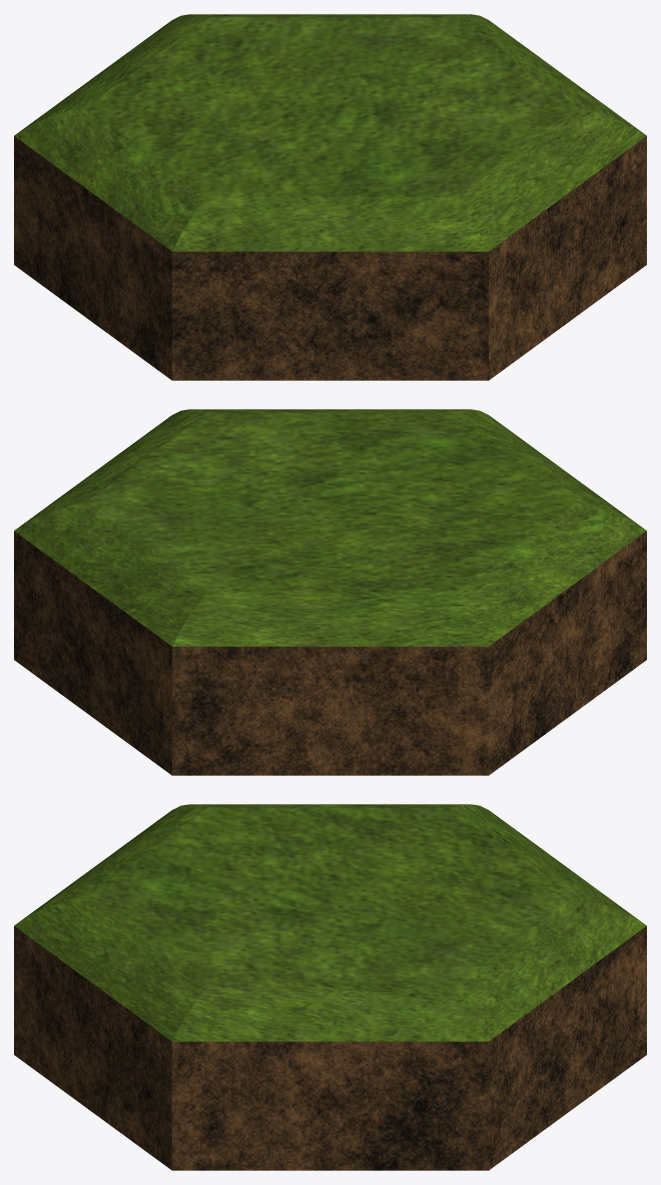
Rendered from DAEgrass.dae.
3 renders of one model, top to bottom at view 1: azimuth 30°, elevation 25°; view 2: azimuth 150°, elevation 25°; view 3: azimuth 270°, elevation 25°, orthographic.
Parts seen in each view (by area): view 1: PolyLowRes; view 2: PolyLowRes; view 3: PolyLowRes.
Boxes of the visible parts, x1=… form: PolyLowRes: x1=14, y1=14, x2=646, y2=380; PolyLowRes: x1=14, y1=409, x2=646, y2=775; PolyLowRes: x1=14, y1=804, x2=646, y2=1170.
Size of the model in its own units: 1.73 by 2 by 0.55.
1 material, 1 textured.
